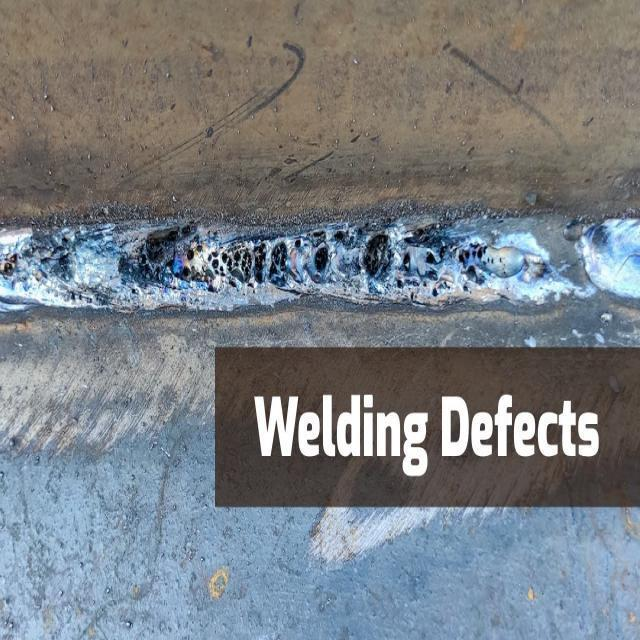Bad Welding: (3, 219, 639, 312)
Spatters: (152, 234, 488, 282), (312, 257, 338, 280), (370, 239, 388, 269), (256, 253, 272, 274), (460, 247, 475, 269), (422, 247, 438, 267), (209, 253, 224, 267), (182, 247, 194, 262), (402, 255, 412, 265)
